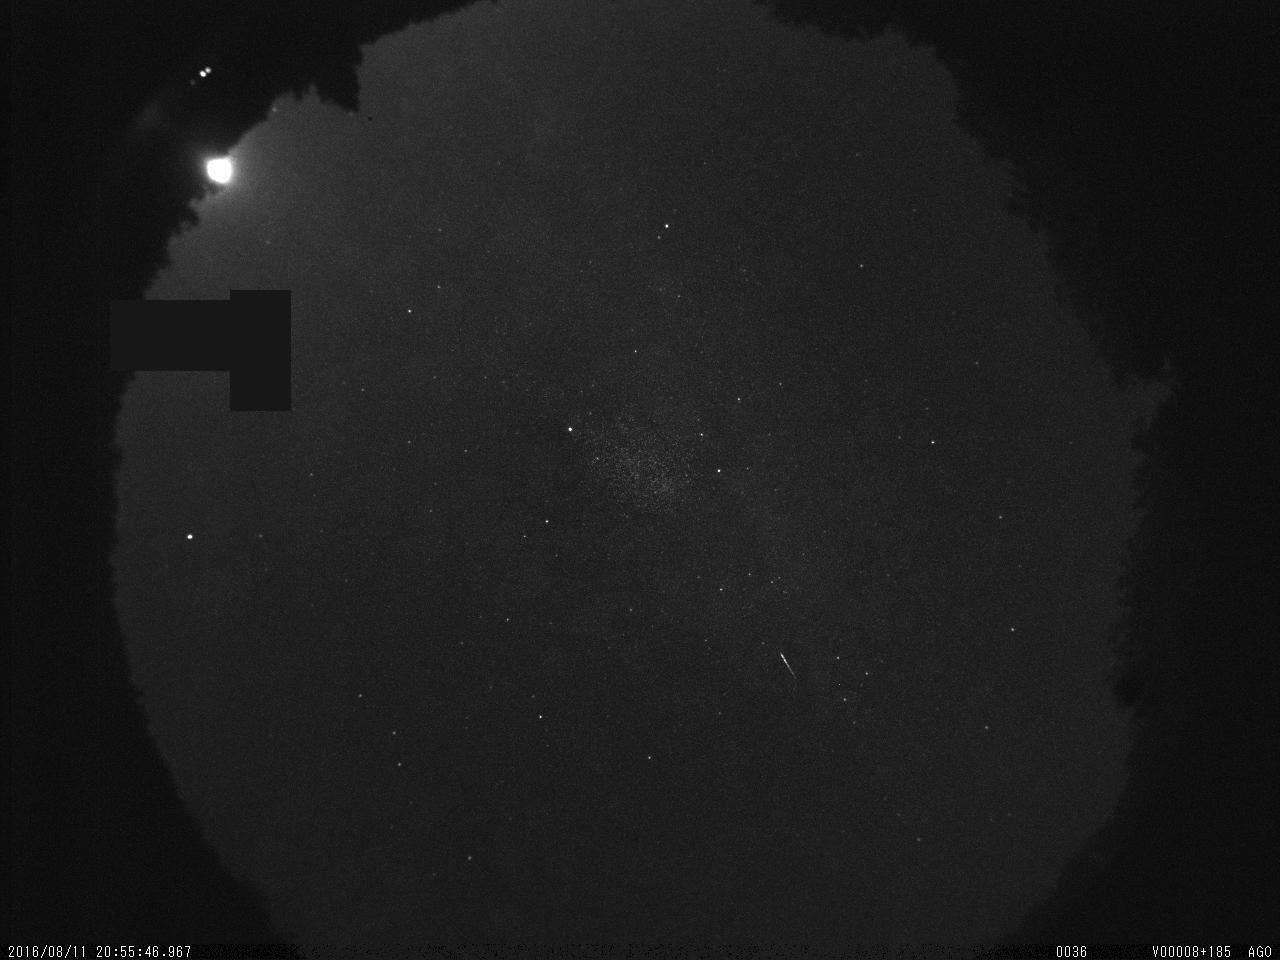Meteor: (774, 644, 802, 687)
